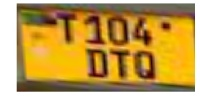T: (55, 11, 78, 46), (108, 48, 132, 80)
